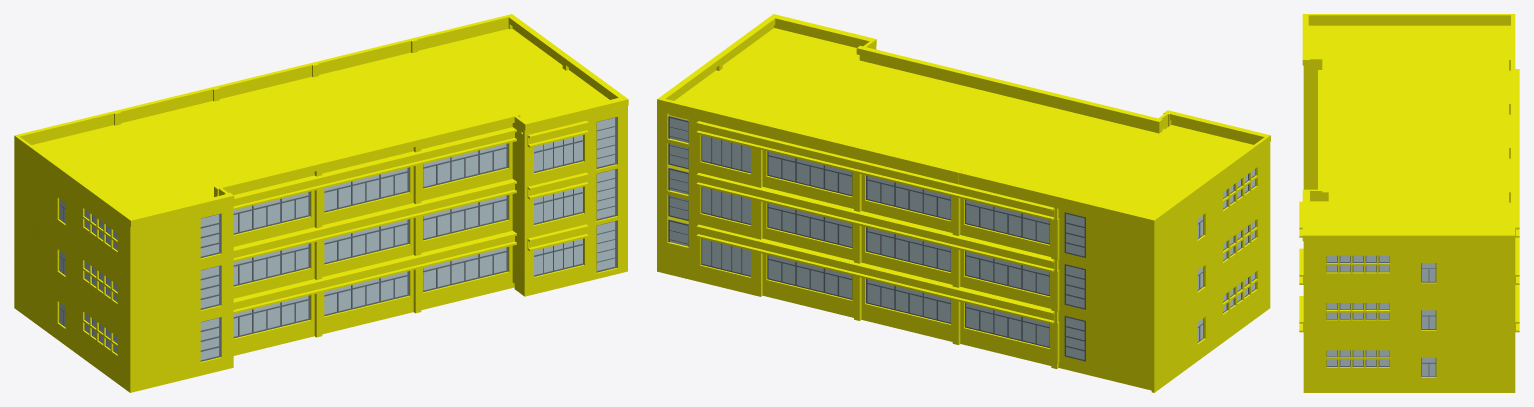
The model's file is bangonglou3.glb.
3 views of the same model, side by side, from view 1: azimuth 30°, elevation 25°; view 2: azimuth 150°, elevation 25°; view 3: azimuth 270°, elevation 25° (orthographic). The views are drawn at different scales.
Visible parts, largest first — view 1: Line01, Rectangle450, Rectangle49, Rectangle52, Rectangle44, Rectangle06, Rectangle30, Rectangle18, Rectangle78, Rectangle116, Rectangle132, Rectangle135 (+56 smaller); view 2: Line01, Rectangle450, Rectangle273, Rectangle191, Rectangle194, Rectangle232, Rectangle220, Rectangle208, Rectangle186, Rectangle116, Rectangle135, Rectangle132 (+52 smaller); view 3: Line01, Rectangle296, Rectangle291, Rectangle299, Rectangle310, Rectangle309, Rectangle311, Rectangle366, Rectangle123, Rectangle305, Rectangle300, Rectangle308 (+24 smaller).
Boxes of the visible parts, bbox=[...] form: Line01: bbox=[31, 29, 609, 217]; Rectangle450: bbox=[17, 15, 508, 144]; Rectangle49: bbox=[128, 260, 227, 335]; Rectangle52: bbox=[128, 312, 227, 386]; Rectangle44: bbox=[128, 208, 227, 283]; Rectangle06: bbox=[233, 127, 512, 246]; Rectangle30: bbox=[233, 231, 512, 350]; Rectangle18: bbox=[233, 180, 512, 298]; Rectangle78: bbox=[586, 111, 625, 275]; Rectangle116: bbox=[214, 112, 520, 195]; Rectangle132: bbox=[70, 240, 132, 335]; Rectangle135: bbox=[70, 292, 132, 387]; Line01: bbox=[669, 28, 1253, 232]; Rectangle450: bbox=[663, 99, 1153, 231]; Rectangle273: bbox=[657, 107, 698, 275]; Rectangle191: bbox=[1059, 259, 1157, 333]; Rectangle194: bbox=[1059, 311, 1157, 385]; Rectangle232: bbox=[762, 239, 1059, 360]; Rectangle220: bbox=[762, 188, 1059, 308]; Rectangle208: bbox=[762, 150, 1059, 256]; Rectangle186: bbox=[1059, 210, 1157, 282]; Rectangle116: bbox=[856, 45, 1162, 127]; Rectangle135: bbox=[1210, 252, 1268, 345]; Rectangle132: bbox=[1210, 200, 1268, 293]; Line01: bbox=[1308, 25, 1510, 232]; Rectangle296: bbox=[1306, 293, 1412, 340]; Rectangle291: bbox=[1306, 246, 1412, 293]; Rectangle299: bbox=[1306, 340, 1412, 387]; Rectangle310: bbox=[1445, 293, 1515, 340]; Rectangle309: bbox=[1445, 246, 1515, 293]; Rectangle311: bbox=[1445, 340, 1515, 387]; Rectangle366: bbox=[1308, 14, 1515, 25]; Rectangle123: bbox=[1303, 233, 1471, 241]; Rectangle305: bbox=[1412, 293, 1445, 340]; Rectangle300: bbox=[1412, 246, 1445, 293]; Rectangle308: bbox=[1412, 340, 1445, 387].
Size of the model in its own units: 1.03 by 0.3401 by 0.4316.
Materials: 5 (3 with a texture image).
